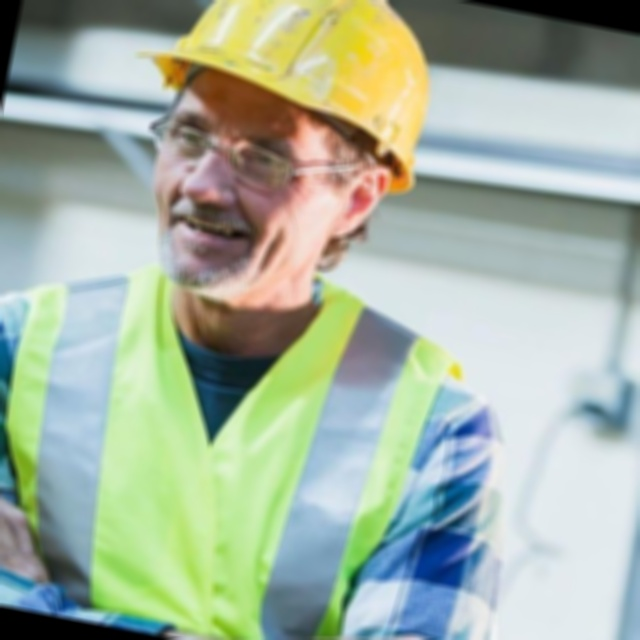Con_Casco: (94, 0, 455, 333)
Con_Chaleco: (0, 239, 458, 640)
